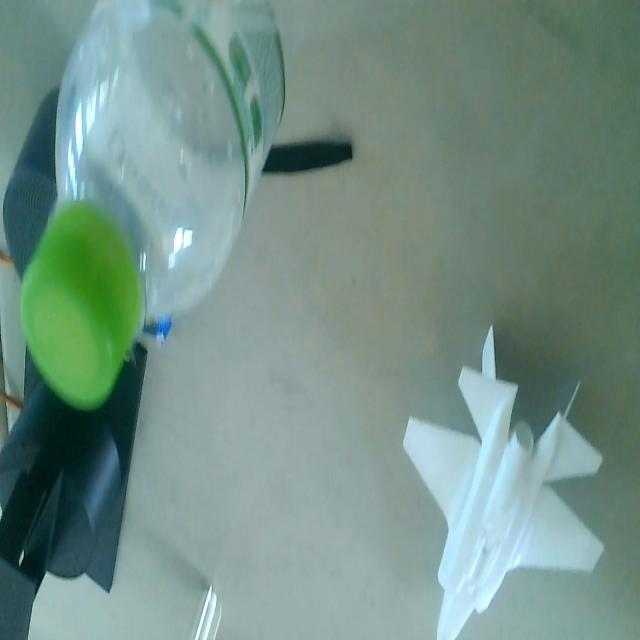Jet: (399, 317, 607, 640)
